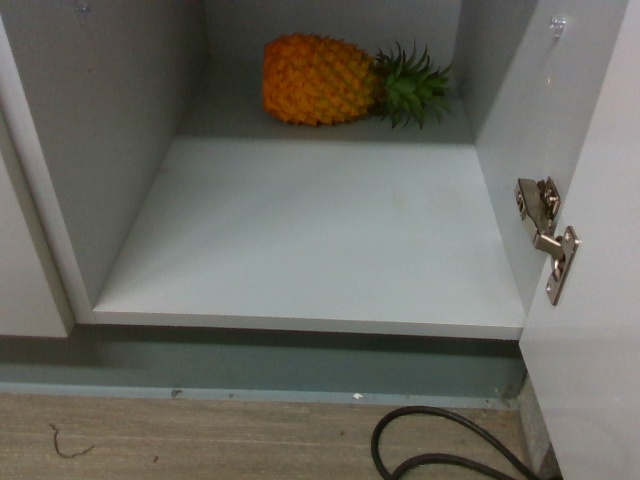pineapple: (258, 31, 456, 128)
